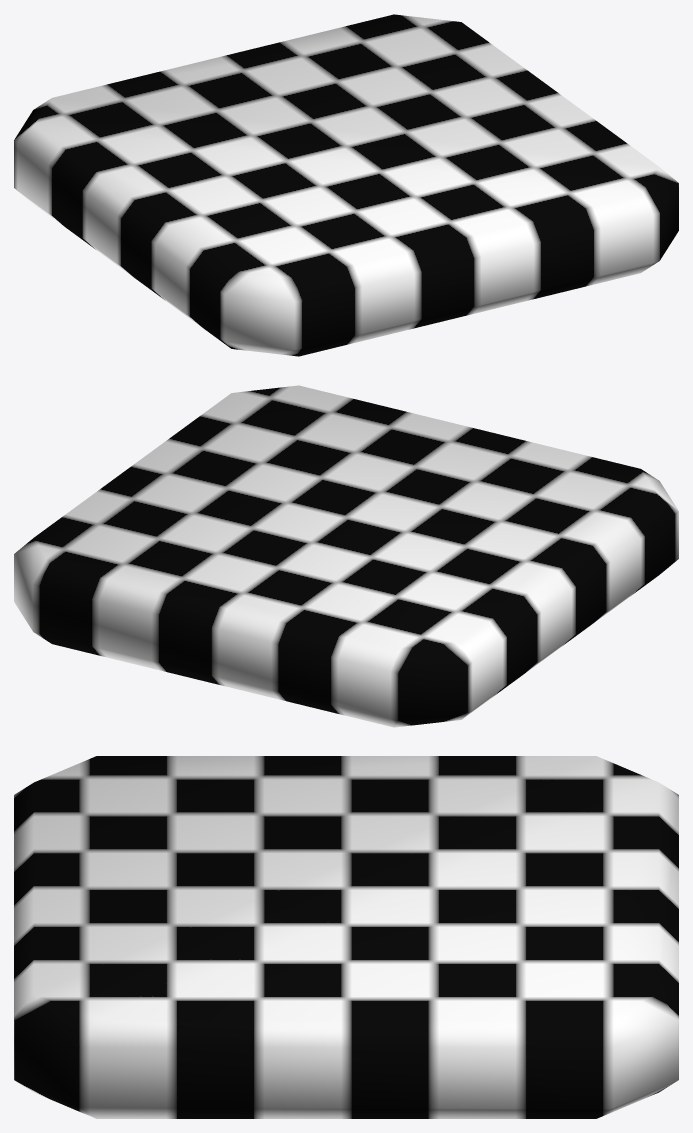
The model's file is initlitr28.dae.
3 renders of one model, top to bottom at view 1: azimuth 30°, elevation 25°; view 2: azimuth 150°, elevation 25°; view 3: azimuth 270°, elevation 25°, orthographic. The views are drawn at different scales.
Visible parts, largest first — view 1: item; view 2: item; view 3: item.
Part boxes in pixels (x1,y1,x2,y2): item: (14,14,678,356); item: (14,385,678,727); item: (14,756,678,1118).
Bounding box in the file's own units: 0.556 × 0.556 × 0.091.
Materials: 1 (1 with a texture image).
